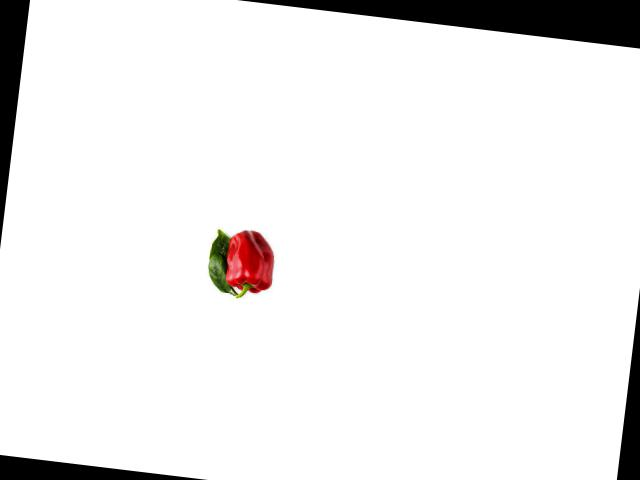bell_pepper: (219, 225, 284, 301)
